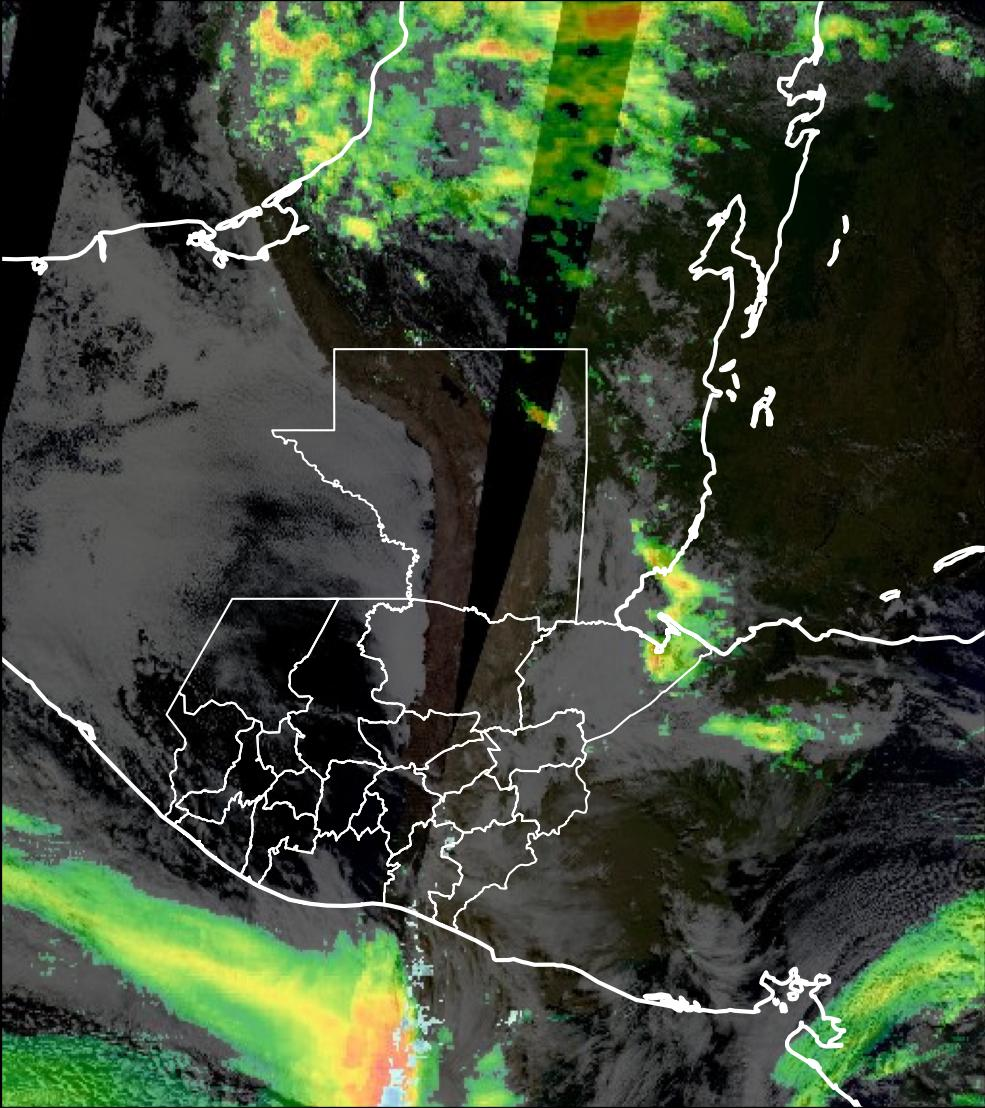precipitacion: (539, 1, 676, 45)
